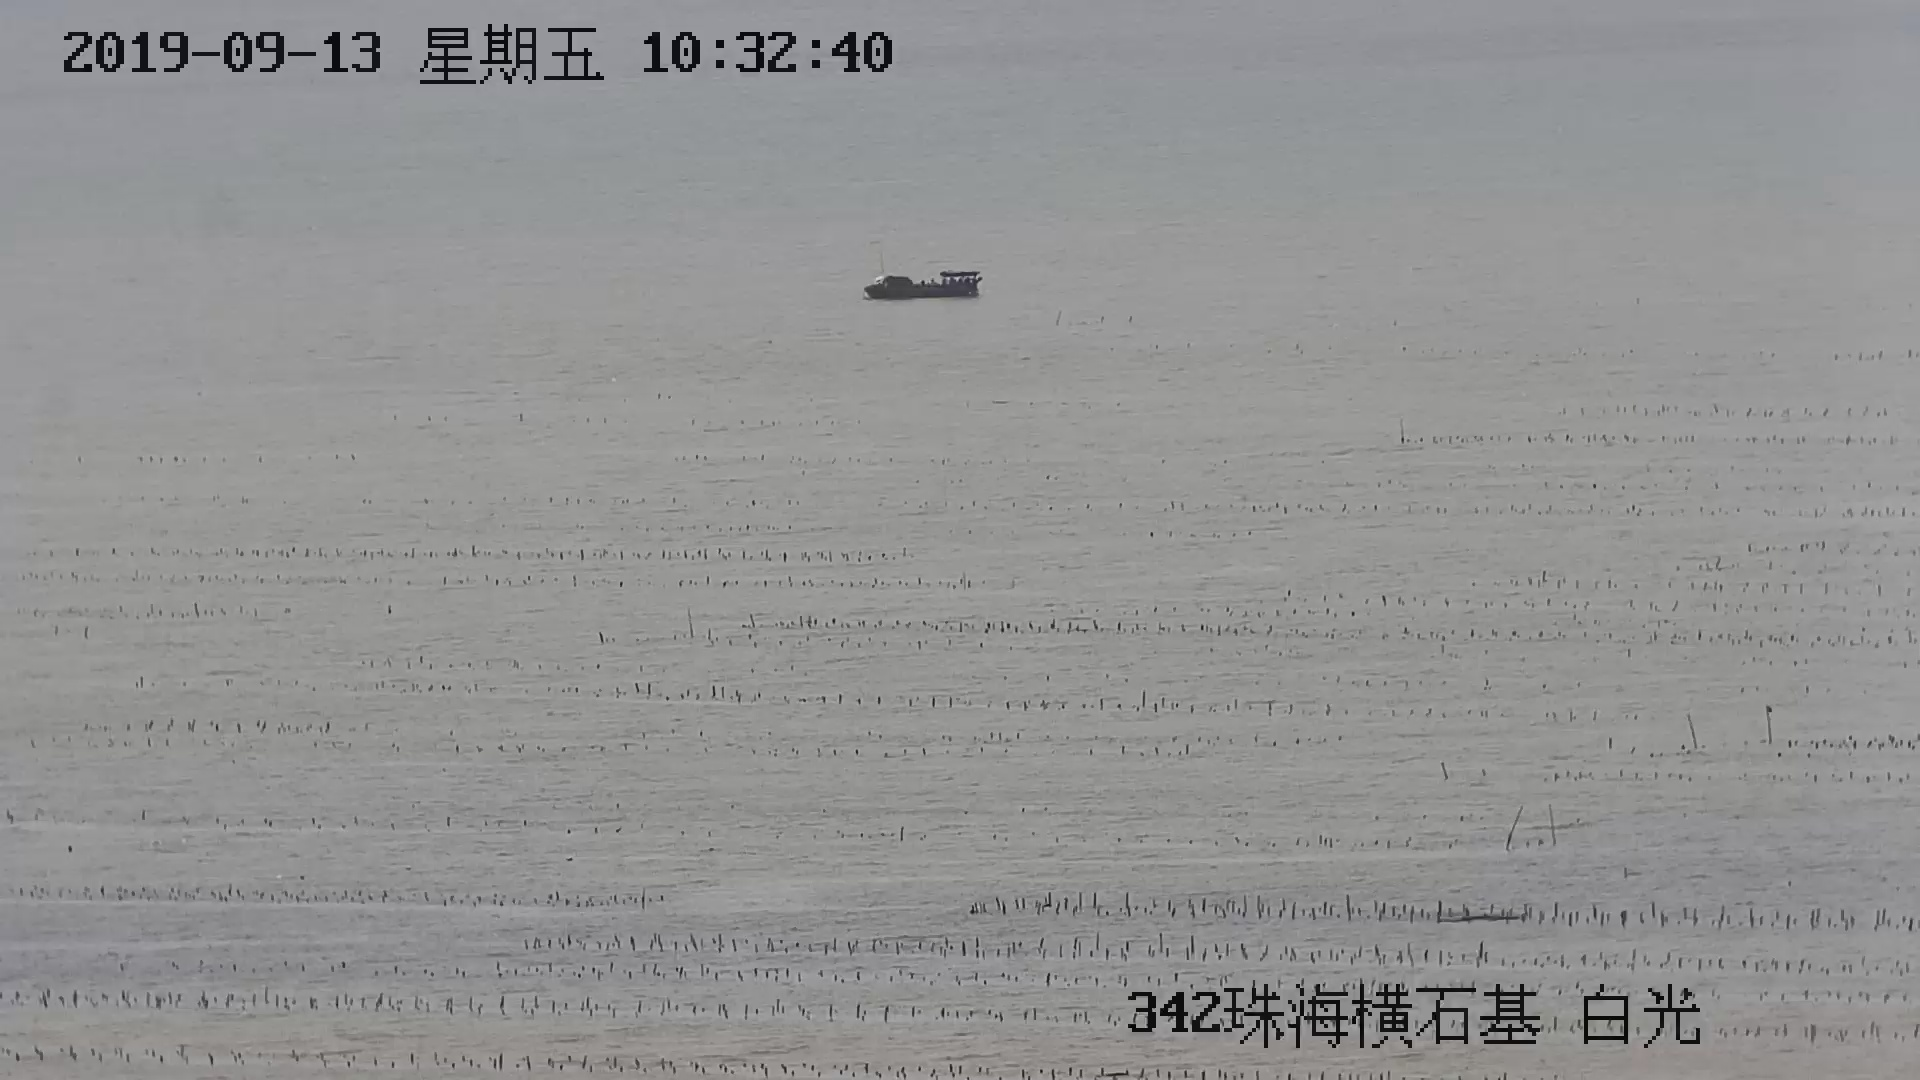ship: (864, 269, 984, 301)
